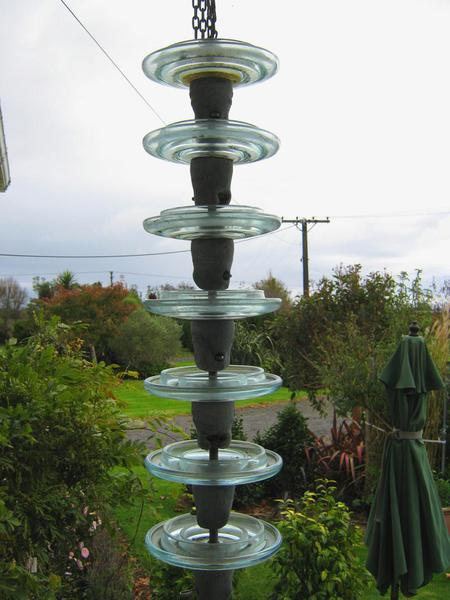isolator: (140, 37, 286, 570)
